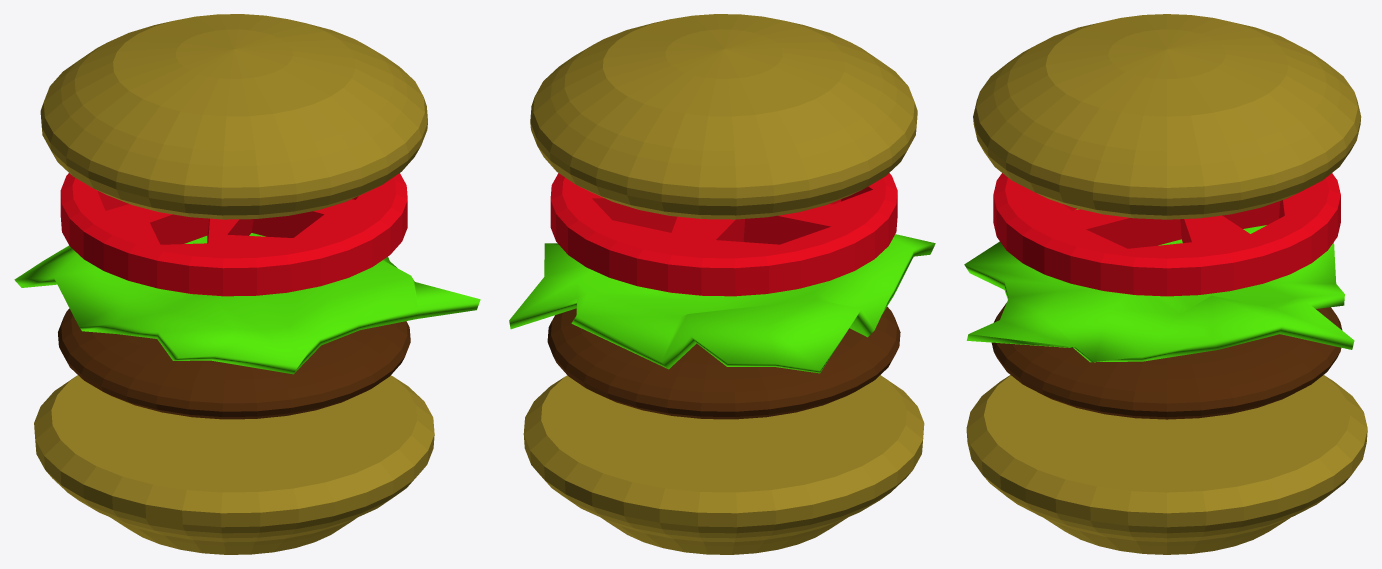
The model's file is Burger.fbx.
3 renders of one model, left to right at view 1: azimuth 30°, elevation 25°; view 2: azimuth 150°, elevation 25°; view 3: azimuth 270°, elevation 25°, orthographic.
Visible parts, largest first — view 1: Sphere.001, Sphere, Cylinder, Plane.001, Sphere.002; view 2: Sphere.001, Sphere, Cylinder, Plane.001, Sphere.002; view 3: Sphere.001, Sphere, Cylinder, Plane.001, Sphere.002.
Part boxes in pixels (<box>): Sphere.001: <box>40,14,427,219</box>; Sphere: <box>34,375,434,554</box>; Cylinder: <box>60,173,407,296</box>; Plane.001: <box>14,233,480,374</box>; Sphere.002: <box>58,308,410,419</box>; Sphere.001: <box>530,14,917,219</box>; Sphere: <box>523,375,924,554</box>; Cylinder: <box>550,173,897,296</box>; Plane.001: <box>509,234,935,373</box>; Sphere.002: <box>547,306,900,419</box>; Sphere.001: <box>973,14,1361,219</box>; Sphere: <box>966,375,1367,554</box>; Cylinder: <box>993,173,1340,296</box>; Plane.001: <box>964,209,1354,362</box>; Sphere.002: <box>991,303,1342,419</box>.
Bounding box in the file's own units: 316 × 413 × 317.
